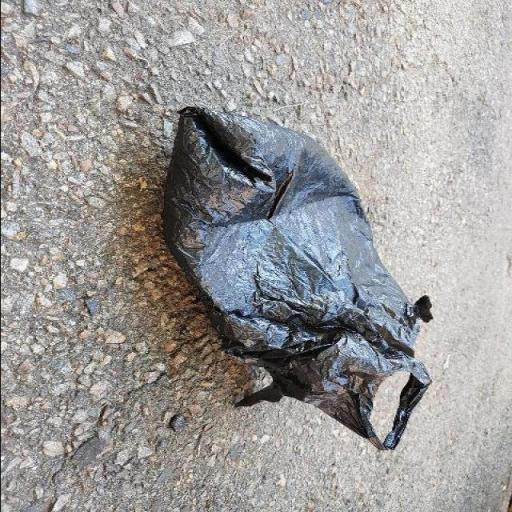plastic-bag: (156, 104, 438, 454)
